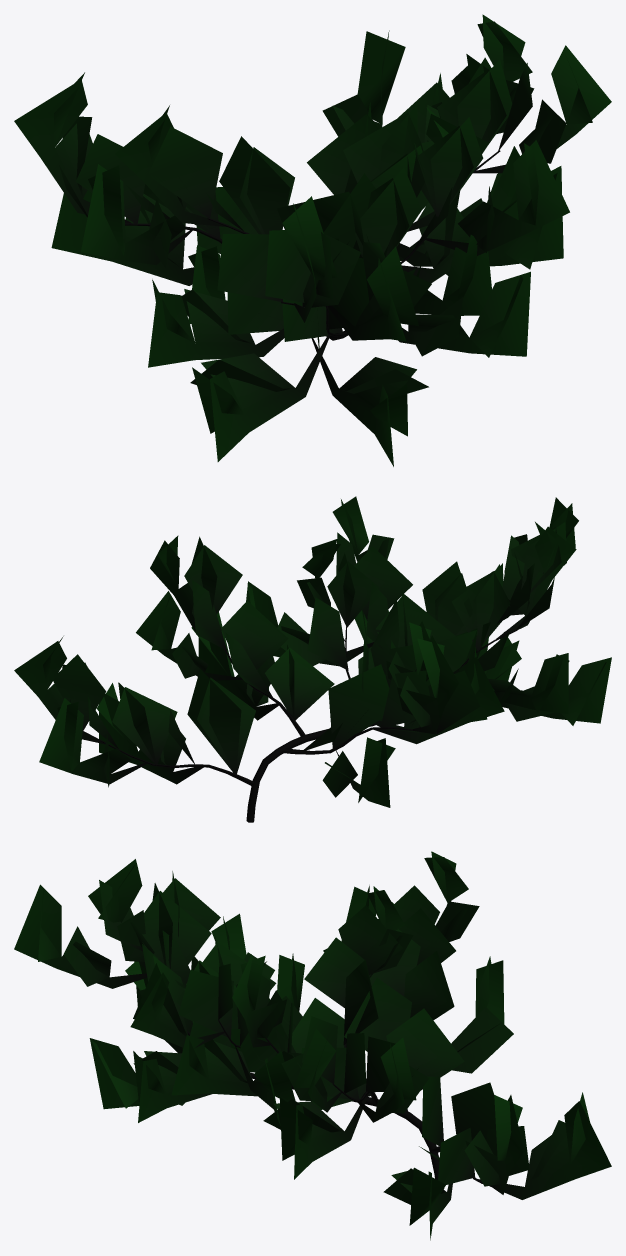
The model's file is Pine_beach_short_02.fbx.
3 views of the same model, one above another, from view 1: azimuth 30°, elevation 25°; view 2: azimuth 150°, elevation 25°; view 3: azimuth 270°, elevation 25° (orthographic). The views are drawn at different scales.
Parts seen in each view (by area): view 1: pine_beach_short_02_LOD0; view 2: pine_beach_short_02_LOD0; view 3: pine_beach_short_02_LOD0.
Boxes of the visible parts, <box> form: pine_beach_short_02_LOD0: <box>14,14,611,466</box>; pine_beach_short_02_LOD0: <box>14,496,611,822</box>; pine_beach_short_02_LOD0: <box>14,851,611,1240</box>.
Size of what is drawn, in the model's own units: 190 by 100 by 217.
